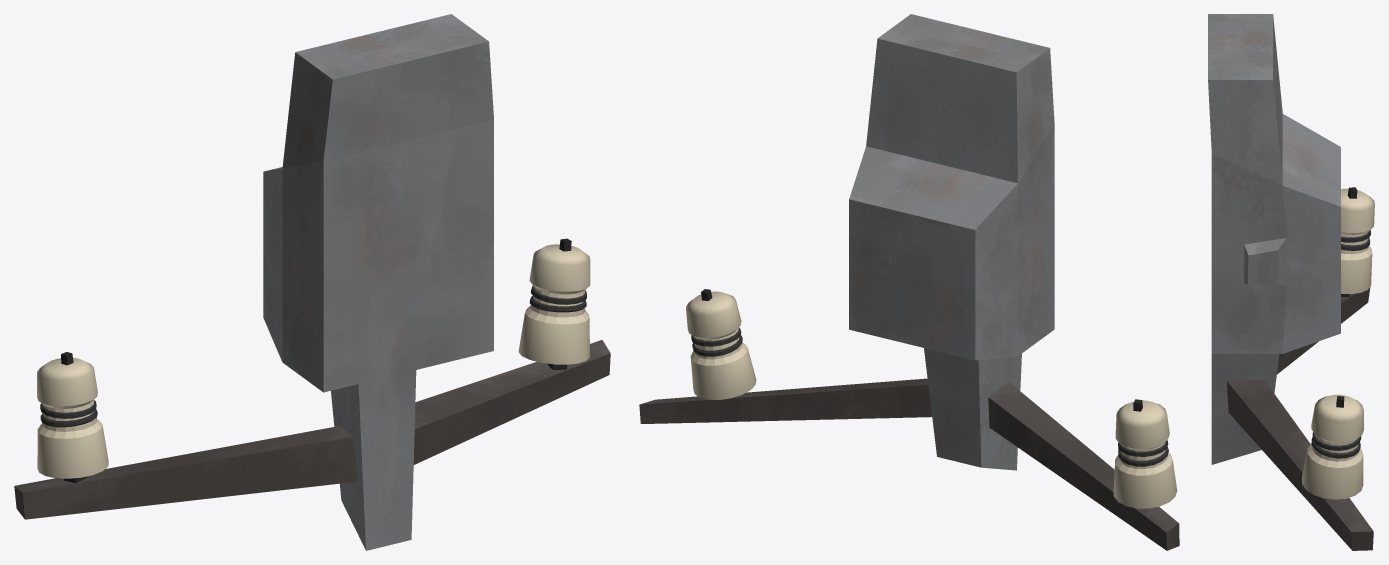
File: electric-hren.fbx
The picture shows the model from 3 angles, left to right: view 1: azimuth 30°, elevation 25°; view 2: azimuth 150°, elevation 25°; view 3: azimuth 270°, elevation 25°; orthographic projection. The views are drawn at different scales.
Visible parts, largest first — view 1: Cube.020; view 2: Cube.020; view 3: Cube.020.
Boxes of the visible parts, x1=… form: Cube.020: x1=14, y1=14, x2=610, y2=550; Cube.020: x1=639, y1=14, x2=1179, y2=550; Cube.020: x1=1208, y1=14, x2=1374, y2=550.
Size of the model in its own units: 50.74 by 39.38 by 14.29.
